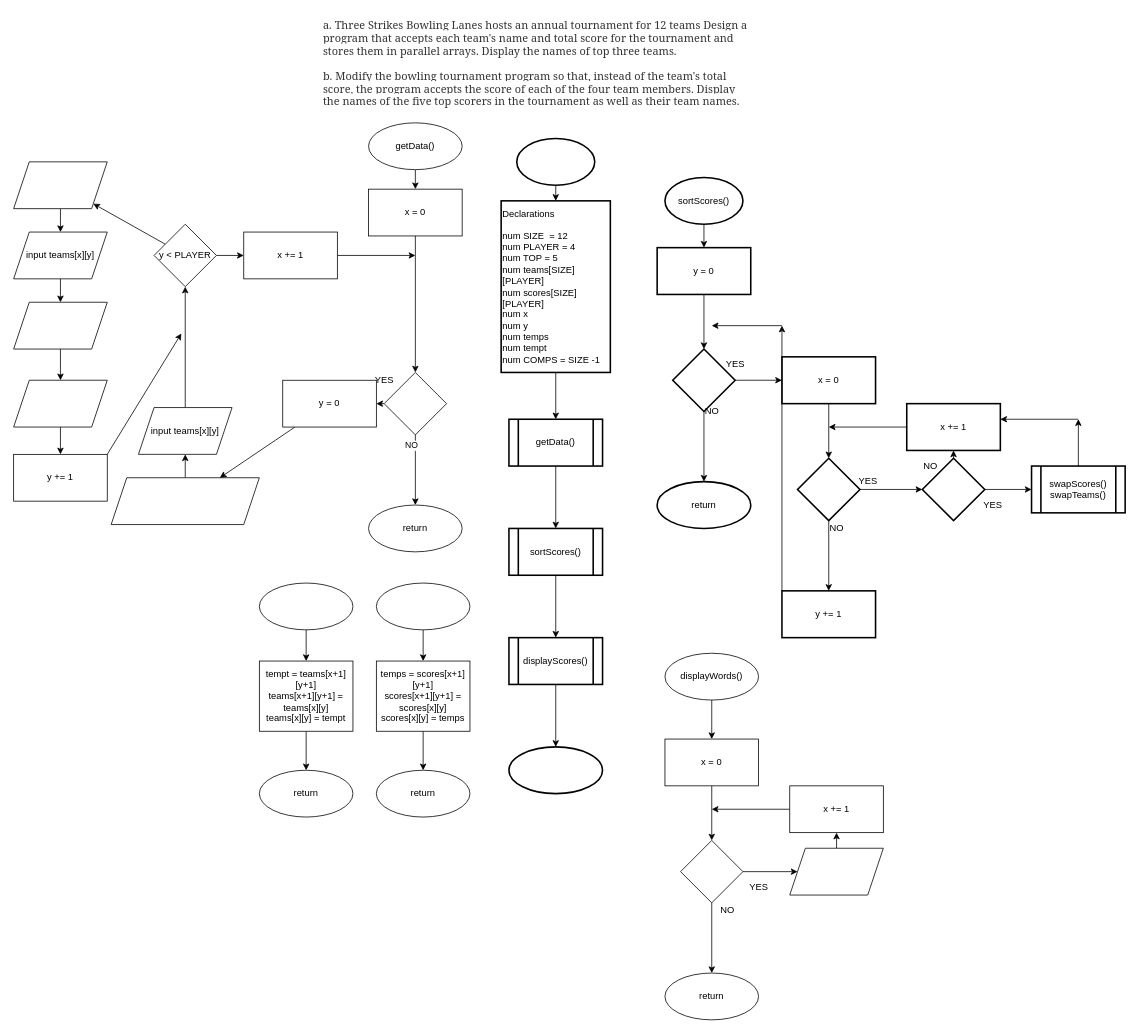
Some shapes in this 1140 by 1034 pixel diagram are drawn without their labels. Each missing label, with the box of its shape:
input scores[x][y]: (13, 379, 107, 427)
output "Enter ", teams[x][y], "'s score: (13, 301, 107, 349)
output "Enter a team": (110, 477, 259, 525)
output "Enter player name for team" teams[x]: (13, 161, 107, 209)
output teams[x][y], scores[x][y]: (789, 847, 883, 895)
scores[x][y] > scores[x+1][y+1]: (921, 457, 985, 521)
start: (516, 137, 595, 186)
stop: (508, 746, 603, 794)
swapScores(): (376, 582, 470, 630)
swapTeams(): (259, 582, 353, 630)
x < COMPS: (796, 457, 860, 521)
x < SIZE: (383, 372, 447, 435)
x < TOP: (680, 840, 743, 903)
y < COMPS: (672, 348, 736, 412)
